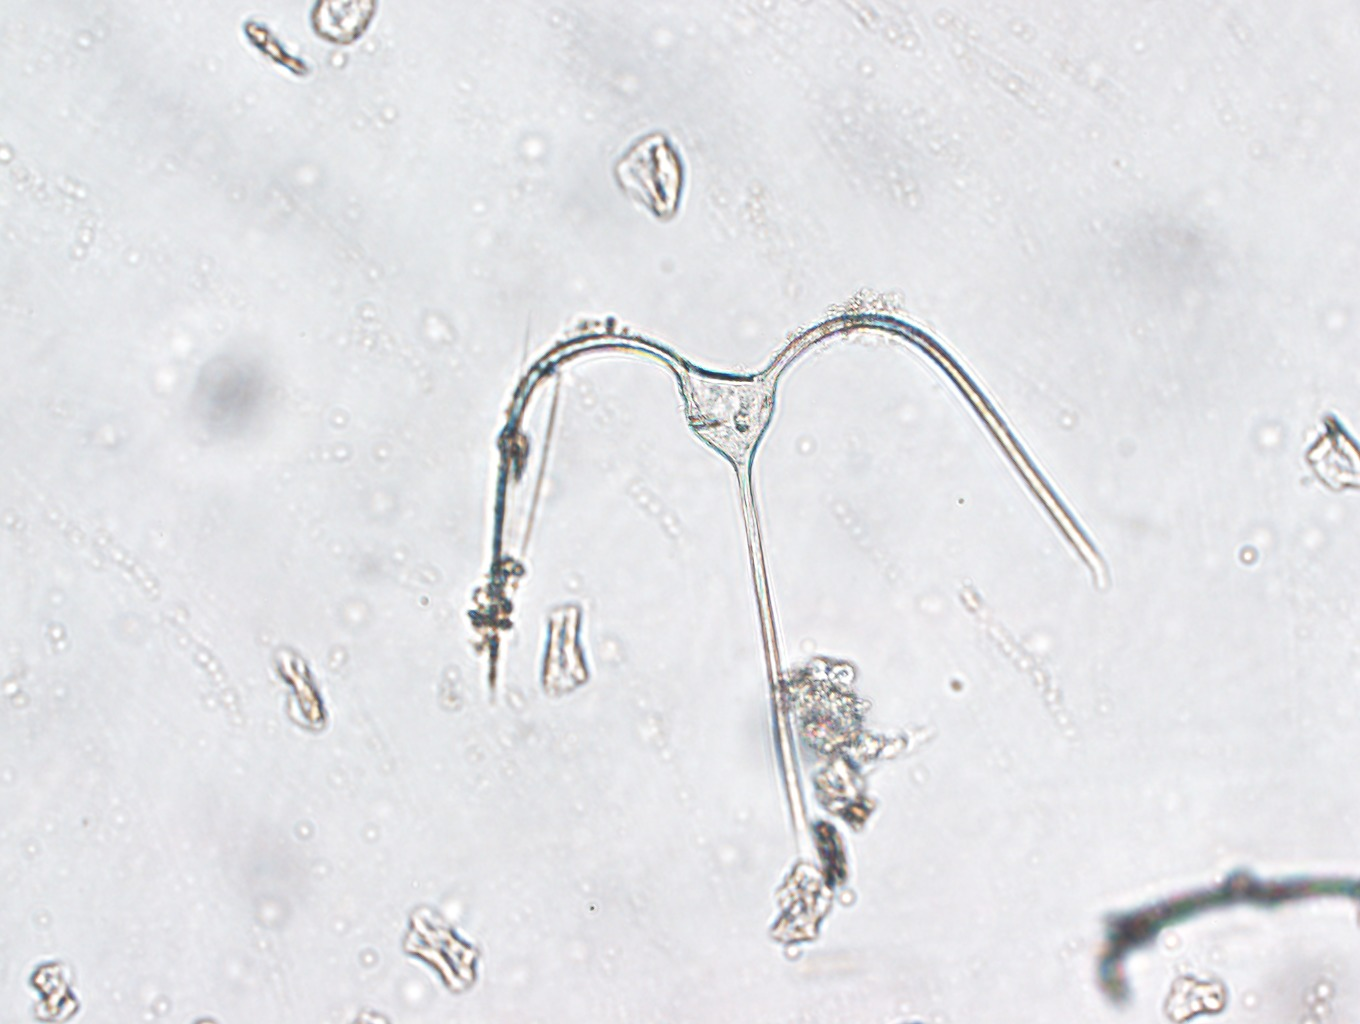ceratium trichoceros: (490, 314, 1110, 824)
